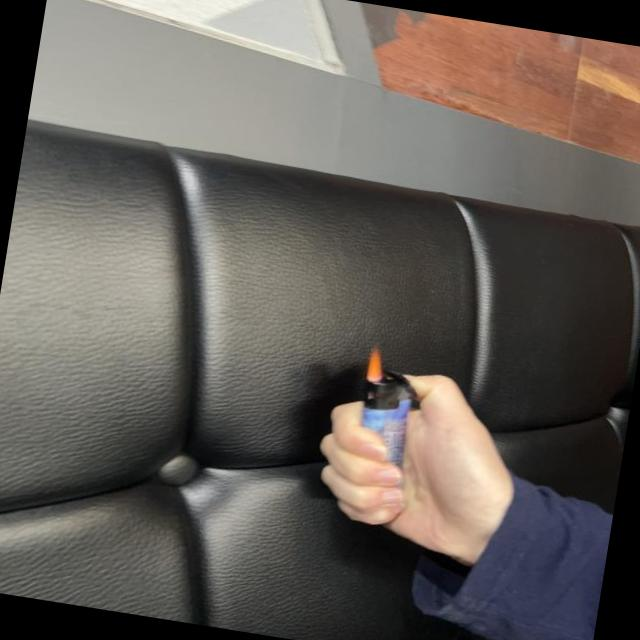Fire: (364, 345, 389, 386)
